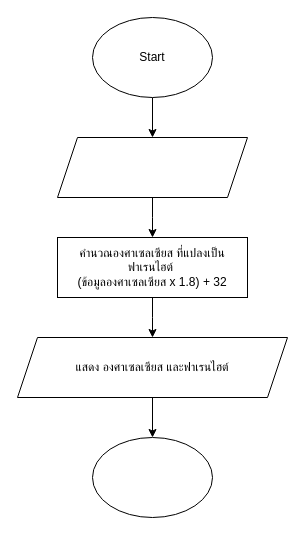
Some shapes in this 305 by 535 pixel diagram are drawn without their labels. Here are the shapes that lost their labels. From the top down, the box of each, then its label:
(56, 136, 248, 198): รับข้อมูล องศาเซลเซียส
(92, 436, 212, 518): End
